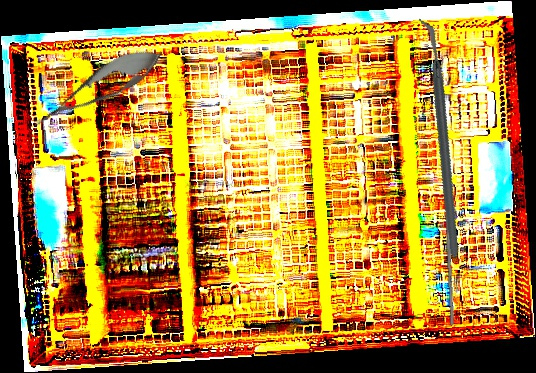Chopper: (352, 15, 525, 257)
Micro Scissor: (26, 35, 170, 140)
Pusher: (444, 210, 455, 326)
